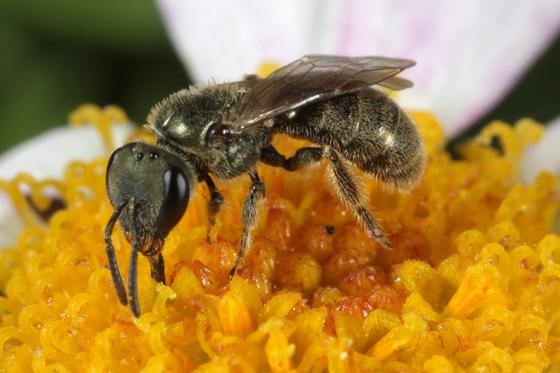Lasioglossum: (95, 47, 454, 296)
